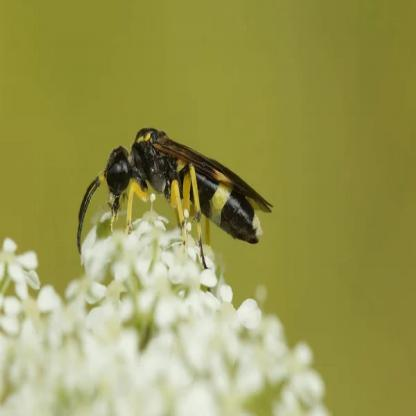sawfly: (75, 125, 272, 279)
